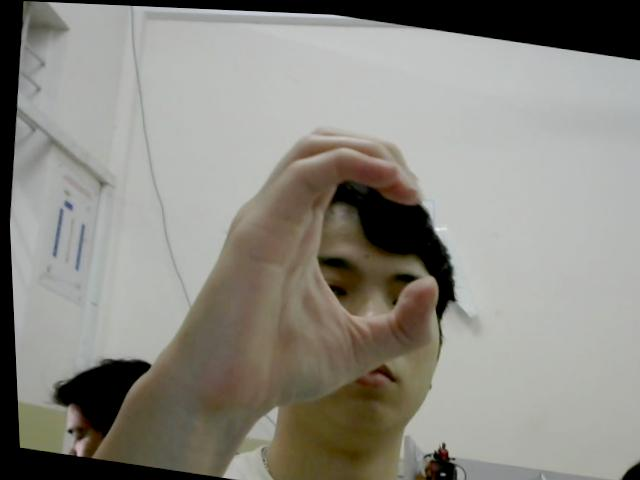C: (186, 102, 459, 426)
